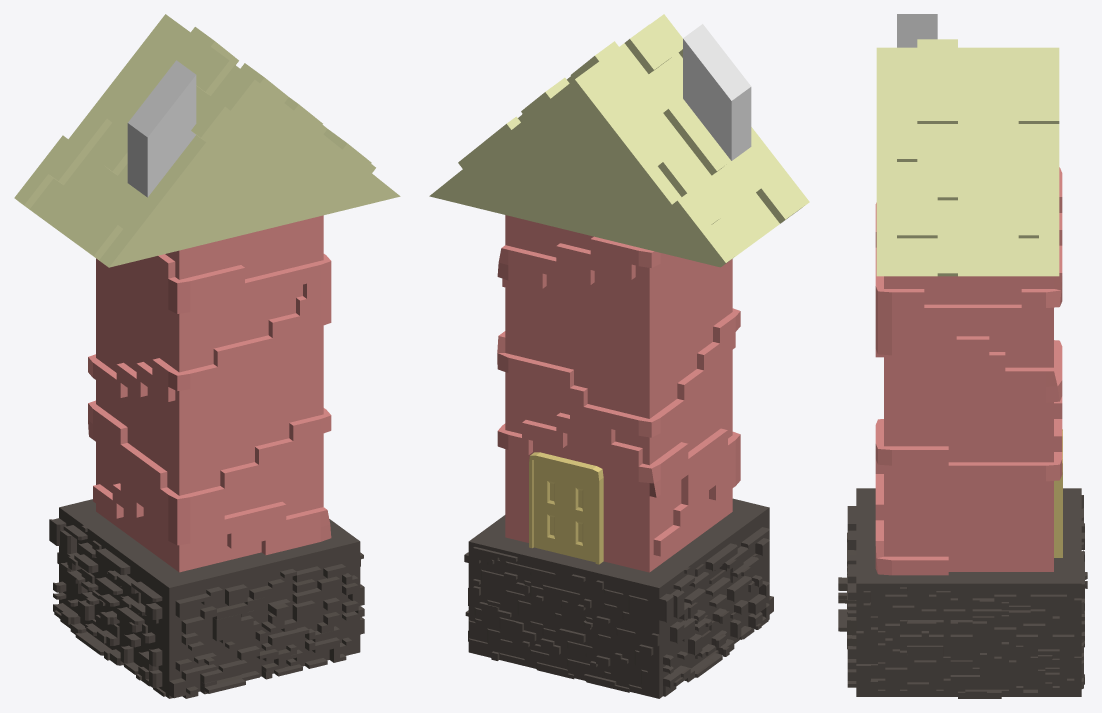
File: BeaverHouse.fbx
3 views of the same model, side by side, from view 1: azimuth 30°, elevation 25°; view 2: azimuth 150°, elevation 25°; view 3: azimuth 270°, elevation 25° (orthographic). The views are drawn at different scales.
Visible parts, largest first — view 1: Cube.003; view 2: Cube.003; view 3: Cube.003.
Boxes of the visible parts, box(x1,y1,x2,y2) form: Cube.003: box(14, 14, 400, 698); Cube.003: box(429, 14, 809, 698); Cube.003: box(838, 14, 1087, 698).
Size of the model in its own units: 419 by 792 by 293.
